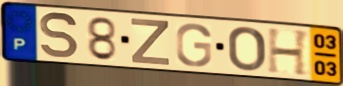8: (85, 16, 118, 62)
G: (174, 22, 214, 69)
H: (265, 27, 312, 78)
O: (226, 25, 268, 73)
S: (38, 10, 81, 61)
Z: (129, 17, 172, 67)
